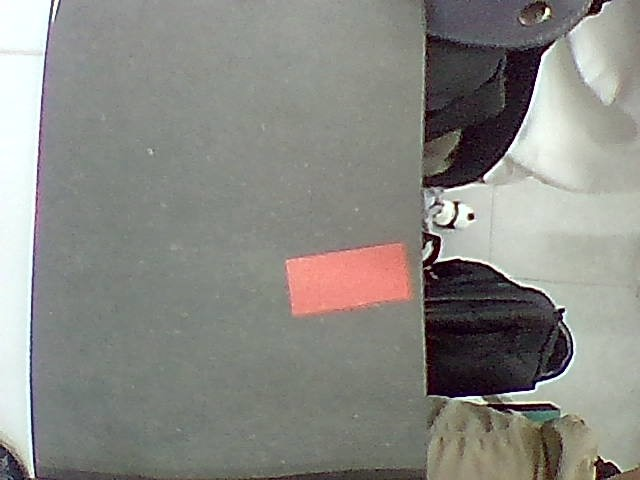card: (288, 243, 411, 316)
